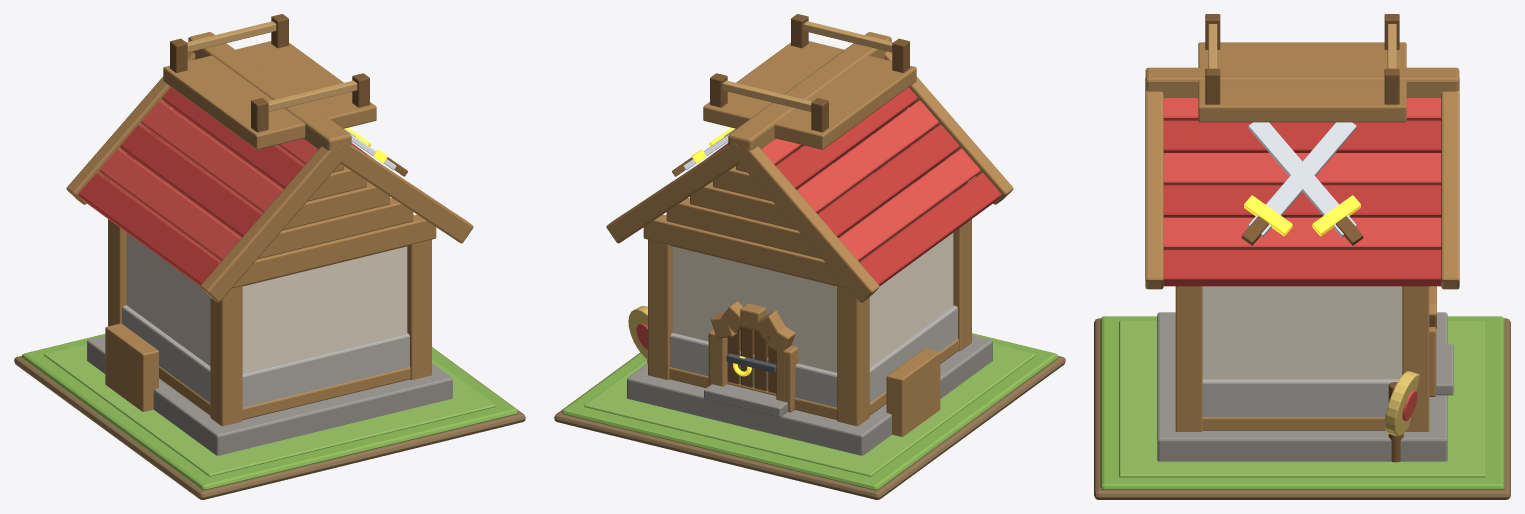
File: barracks_lv3.glb
3 views of the same model, side by side, from view 1: azimuth 30°, elevation 25°; view 2: azimuth 150°, elevation 25°; view 3: azimuth 270°, elevation 25° (orthographic). The views are drawn at different scales.
Visible parts, largest first — view 1: PlasterCore, RoofPlatform, Foundation, Base_Inner, BarracksStoneWainscot, Base_Grass, Base_Dirt, Bargeboard_-1_-1, RoofSlope_-1_5, RoofSlope_-1_2, RoofSlope_-1_3, RoofSlope_-1_4 (+18 smaller); view 2: PlasterCore, RoofPlatform, Base_Inner, Foundation, Base_Grass, BarracksStoneWainscot, Base_Dirt, Bargeboard_1_-1, RoofSlope_-1_5, RoofSlope_-1_2, RoofSlope_-1_3, RoofSlope_-1_4 (+24 smaller); view 3: PlasterCore, Base_Inner, RoofPlatform, Foundation, Base_Grass, RoofSlope_1_5, RoofSlope_1_2, RoofSlope_1_4, BarracksStoneWainscot, RoofSlope_1_1, RoofSlope_1_3, Base_Dirt (+16 smaller).
Part boxes in pixels (x1=…): PlasterCore: x1=126, y1=233, x2=407, y2=372; RoofPlatform: x1=163, y1=41, x2=376, y2=149; Foundation: x1=87, y1=336, x2=452, y2=455; Base_Inner: x1=44, y1=343, x2=495, y2=476; BarracksStoneWainscot: x1=122, y1=305, x2=409, y2=407; Base_Grass: x1=22, y1=334, x2=517, y2=490; Base_Dirt: x1=14, y1=347, x2=525, y2=499; Bargeboard_-1_-1: x1=200, y1=144, x2=346, y2=302; RoofSlope_-1_5: x1=78, y1=172, x2=220, y2=285; RoofSlope_-1_2: x1=141, y1=100, x2=282, y2=213; RoofSlope_-1_3: x1=120, y1=124, x2=262, y2=237; RoofSlope_-1_4: x1=99, y1=148, x2=241, y2=261; PlasterCore: x1=672, y1=233, x2=953, y2=372; RoofPlatform: x1=703, y1=41, x2=916, y2=149; Base_Inner: x1=584, y1=343, x2=1035, y2=476; Foundation: x1=627, y1=335, x2=992, y2=455; Base_Grass: x1=562, y1=333, x2=1057, y2=490; BarracksStoneWainscot: x1=670, y1=305, x2=957, y2=407; Base_Dirt: x1=554, y1=353, x2=1065, y2=499; Bargeboard_1_-1: x1=733, y1=144, x2=879, y2=302; RoofSlope_-1_5: x1=859, y1=172, x2=1001, y2=285; RoofSlope_-1_2: x1=797, y1=100, x2=938, y2=213; RoofSlope_-1_3: x1=817, y1=124, x2=959, y2=237; RoofSlope_-1_4: x1=838, y1=148, x2=980, y2=261; PlasterCore: x1=1202, y1=286, x2=1402, y2=378; Base_Inner: x1=1119, y1=321, x2=1485, y2=477; RoofPlatform: x1=1198, y1=42, x2=1406, y2=122; Foundation: x1=1157, y1=312, x2=1447, y2=461; Base_Grass: x1=1100, y1=316, x2=1504, y2=489; RoofSlope_1_5: x1=1163, y1=250, x2=1441, y2=286; RoofSlope_1_2: x1=1163, y1=153, x2=1441, y2=185; RoofSlope_1_4: x1=1163, y1=217, x2=1441, y2=249; BarracksStoneWainscot: x1=1202, y1=379, x2=1399, y2=417; RoofSlope_1_1: x1=1163, y1=120, x2=1441, y2=152; RoofSlope_1_3: x1=1163, y1=185, x2=1441, y2=217; Base_Dirt: x1=1094, y1=318, x2=1510, y2=499.
Bounding box in the file's own units: 2.76 × 2.7 × 2.76.
